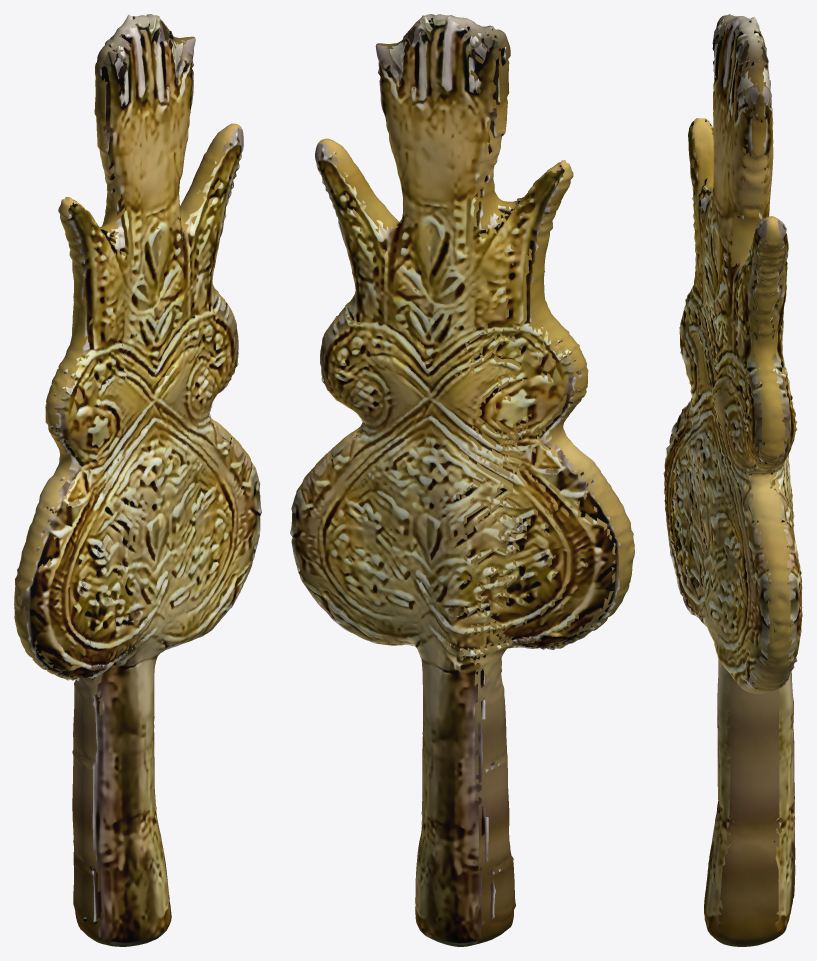
File: kfl-2298.glb
3 views of the same model, side by side, from view 1: azimuth 30°, elevation 25°; view 2: azimuth 150°, elevation 25°; view 3: azimuth 270°, elevation 25° (orthographic).
Parts seen in each view (by area): view 1: kfl-2298; view 2: kfl-2298; view 3: kfl-2298.
Part boxes in pixels (x1=…): kfl-2298: x1=14, y1=14, x2=261, y2=946; kfl-2298: x1=290, y1=14, x2=634, y2=946; kfl-2298: x1=663, y1=14, x2=802, y2=946.
Bounding box in the file's own units: 0.3288 × 0.9935 × 0.1358.
Materials: 4 (4 with a texture image).
